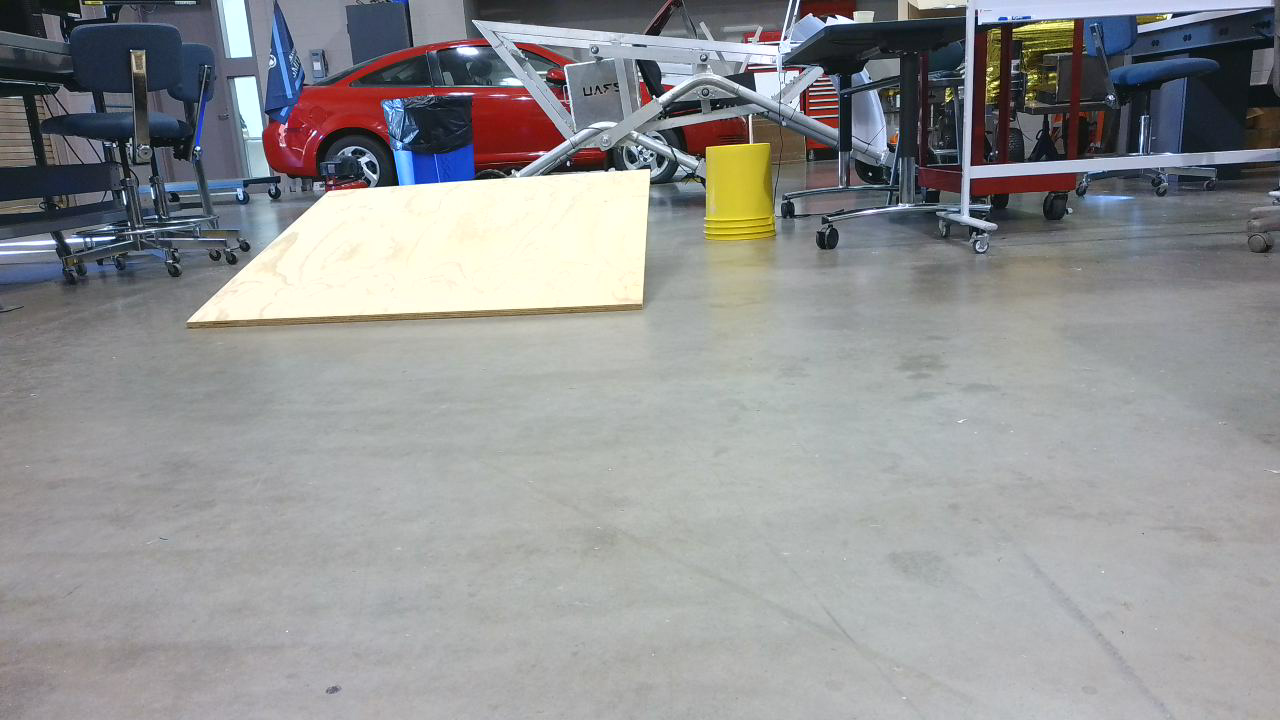concrete_block: (190, 171, 655, 330)
yellow_bucket: (706, 144, 784, 247)
